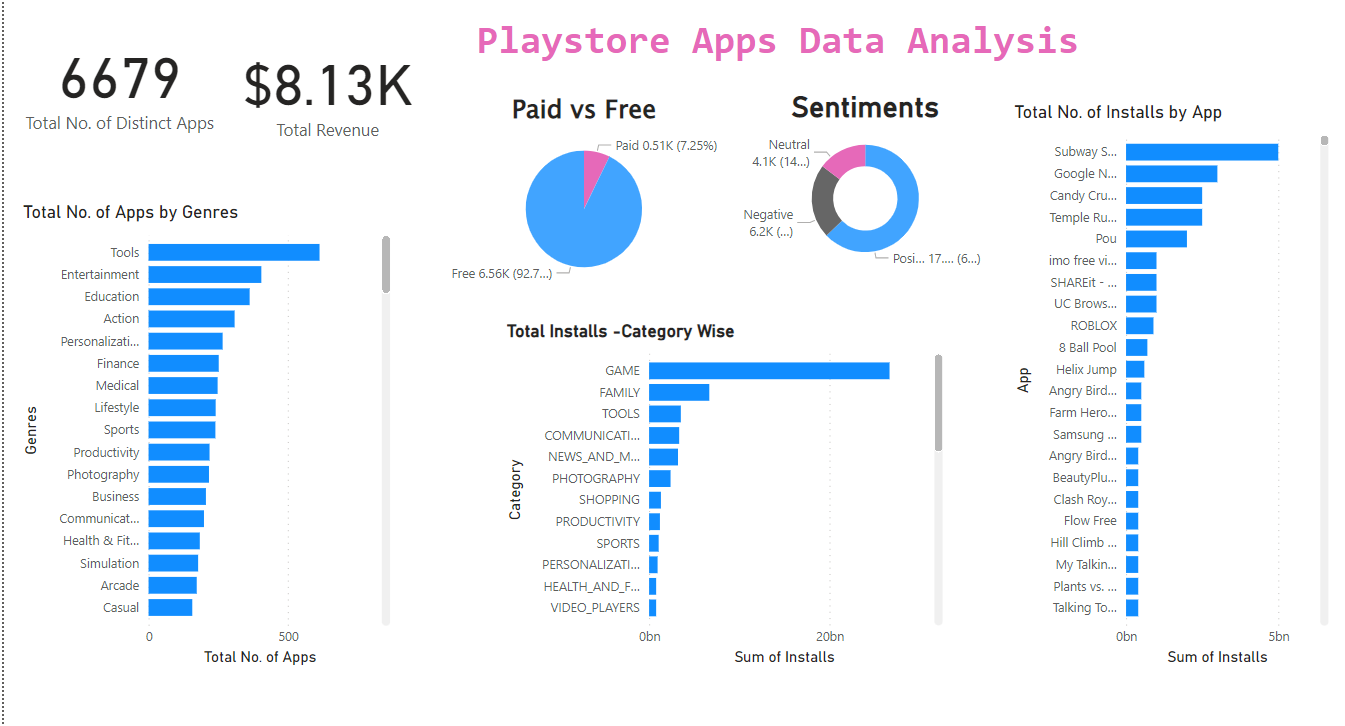

Layout of this report page (visuals, bound fields, positions):
{"tool":"powerbi","page":{"name":"Page 1","canvas":[1280,720],"ordinal":0},"visuals":[{"type":"barChart","fields":{"Category":["Playstore_apps_cleaned.Genres"],"Y":["CountNonNull(Playstore_apps_cleaned.App)"]},"box":[13.1,193.1,360,447],"z":0},{"type":"textbox","box":[445.8,11.9,656.8,67.9],"z":1000},{"type":"card","fields":{"Values":["Count(Playstore_apps_cleaned.App)"]},"box":[13.1,4.8,194.3,149],"z":2000},{"type":"card","fields":{"Values":["Sum(Playstore_apps_cleaned.Price)"]},"box":[207.4,19.1,202.6,134.7],"z":3000},{"type":"pieChart","title":"Paid vs Free  ","fields":{"Y":["CountNonNull(Playstore_apps_cleaned.Price)"],"Category":["Playstore_apps_cleaned.Price (groups)"]},"box":[389.8,87,326.6,189.5],"z":4000},{"type":"donutChart","title":"Sentiments","fields":{"Category":["Playstore_reviews_cleaned1.Sentiment"],"Y":["CountNonNull(Playstore_reviews_cleaned1.Sentiment)"]},"box":[697.3,87,247.9,175.2],"z":5000},{"type":"barChart","title":"Total Installs -Category Wise","fields":{"Category":["Playstore_apps_cleaned.Category"],"Y":["Sum(Playstore_apps_cleaned.Installs)"]},"box":[474.4,306.4,425.6,333.8],"z":6000},{"type":"barChart","title":"Total No. of Installs by App","fields":{"Category":["Playstore_apps_cleaned.App"],"Y":["Sum(Playstore_apps_cleaned.Installs)"]},"box":[958.4,97.7,309.9,542.4],"z":6001}]}

Visuals, with their boxes on the page's 1280x720 design canvas (x1, y1, x2, y2). These are canvas units, not pixel positions in the 1345x726 screenshot, which may show the page scaled, cropped or inside an application window:
barChart - Playstore_apps_cleaned.Genres x CountNonNull(Playstore_apps_cleaned.App): Rect(13, 193, 373, 640)
textbox: Rect(446, 12, 1103, 80)
card - Count(Playstore_apps_cleaned.App): Rect(13, 5, 207, 154)
card - Sum(Playstore_apps_cleaned.Price): Rect(207, 19, 410, 154)
"Paid vs Free  " pieChart: Rect(390, 87, 716, 276)
"Sentiments" donutChart: Rect(697, 87, 945, 262)
"Total Installs -Category Wise" barChart: Rect(474, 306, 900, 640)
"Total No. of Installs by App" barChart: Rect(958, 98, 1268, 640)
